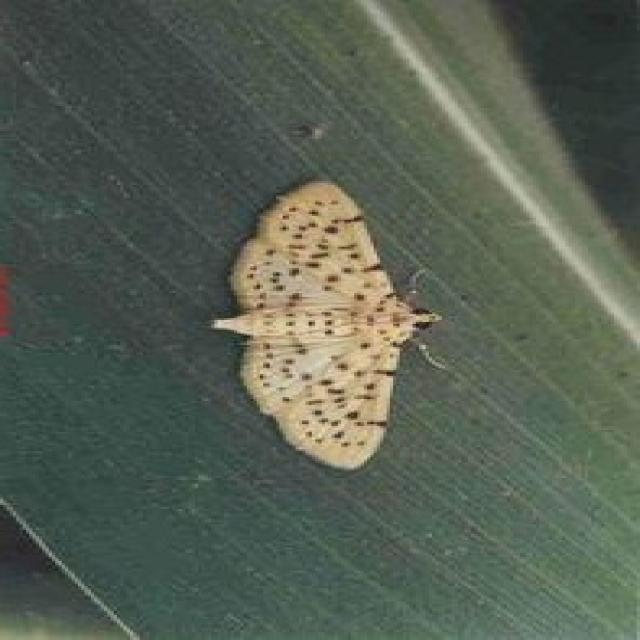peach borer: (203, 178, 450, 477)
